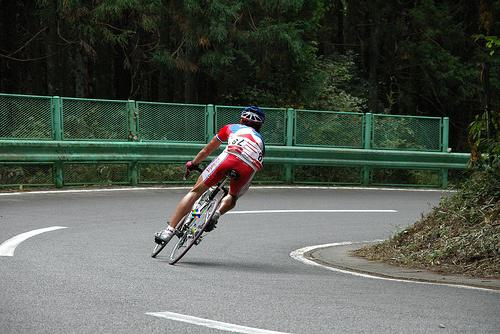car: (153, 162, 240, 266)
person: (155, 109, 266, 244)
